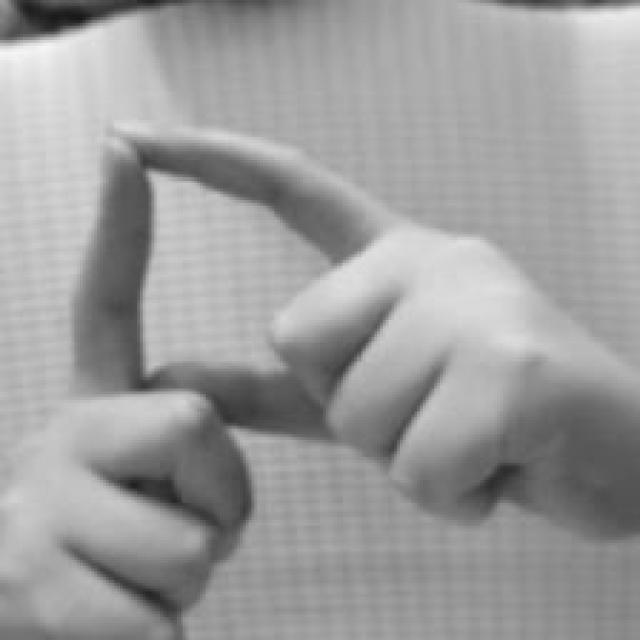D: (3, 114, 530, 640)
